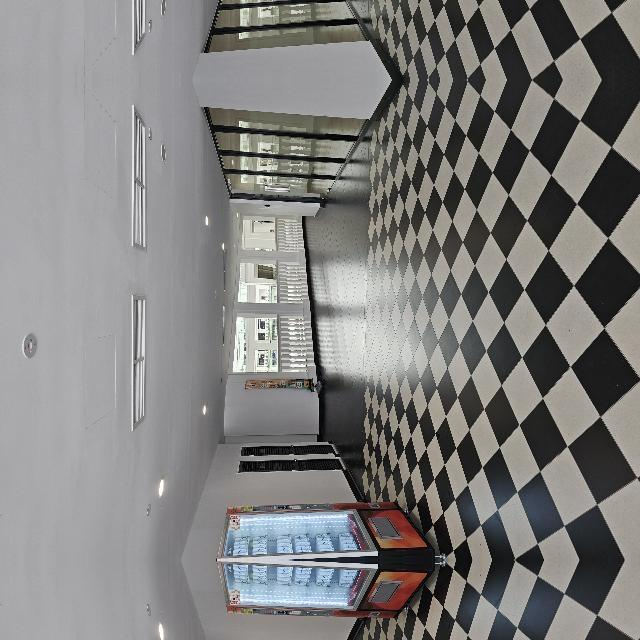door: (356, 283, 454, 449)
obstacle: (1, 294, 61, 524), (1, 596, 61, 640)
